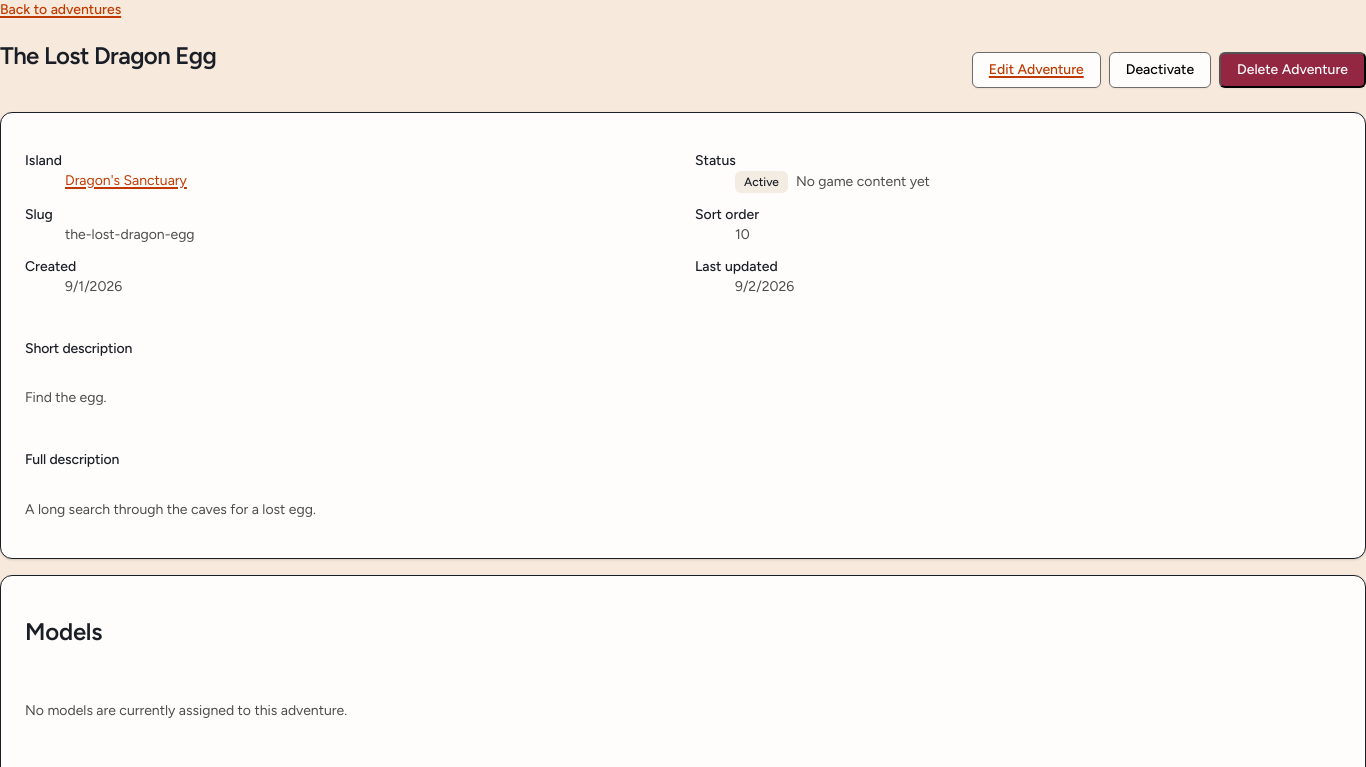
Scenario: AdminAdventureDetail › blocks a superuser from deleting an adventure children have played
What coordinates should you click on to do the following:
click the button "Delete Adventure"
I would click on:
 (1293, 70)
Its box is [1219, 52, 1365, 88].
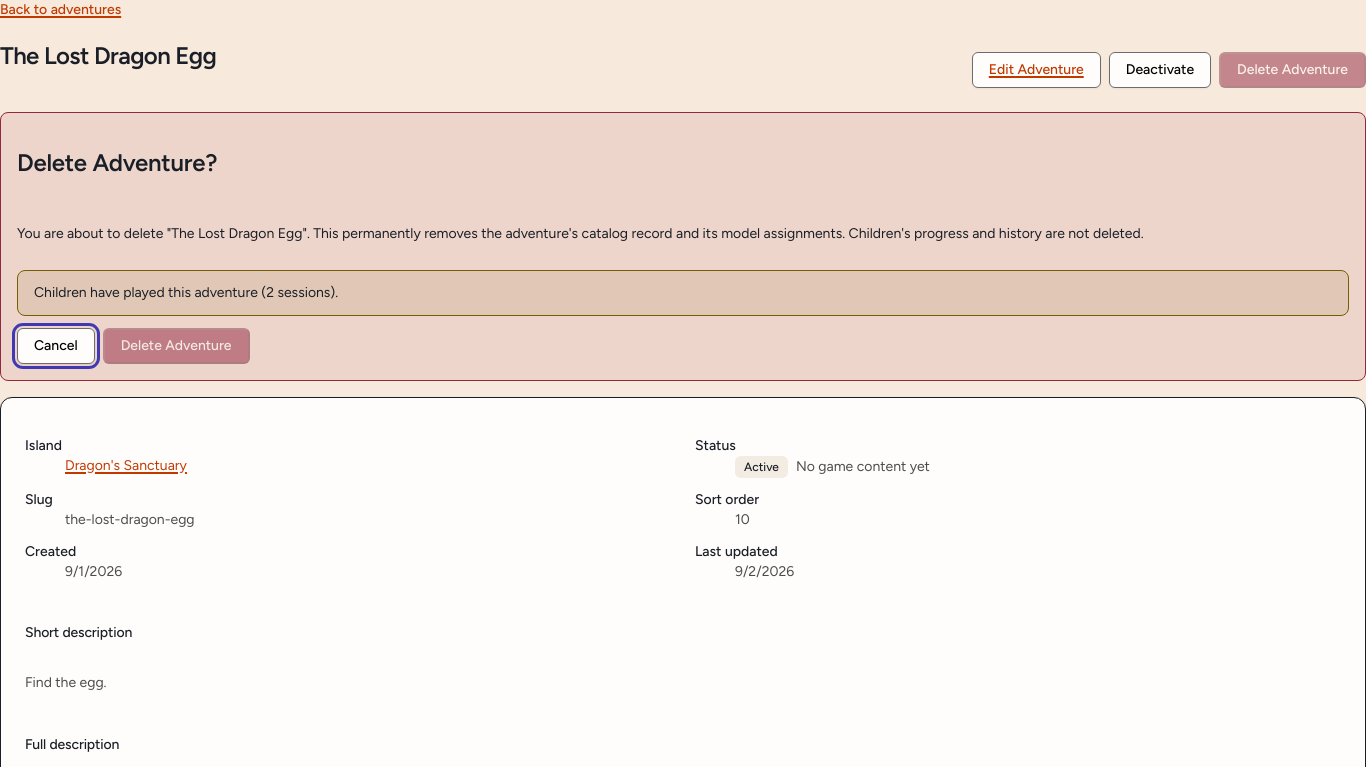
Check: the text "Children have played this adventure (2 sessions)." is shown, box [17, 270, 1349, 316]
Check: the button "Delete Adventure" below "You are about to delete \"" is disabled, box [103, 328, 250, 364]
